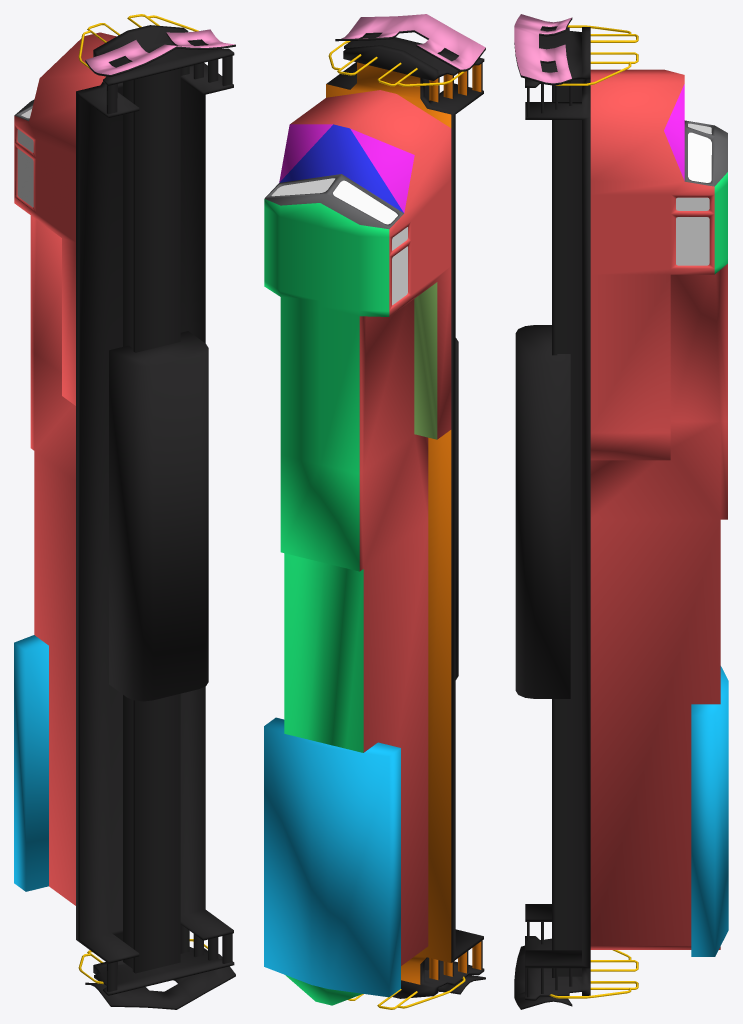
Rendered from Locomotive_01_LOD_2.fbx.
3 views of the same model, side by side, from view 1: azimuth 30°, elevation 25°; view 2: azimuth 150°, elevation 25°; view 3: azimuth 270°, elevation 25° (orthographic).
Visible parts, largest first — view 1: Locomotive_01_LOD_2; view 2: Locomotive_01_LOD_2; view 3: Locomotive_01_LOD_2.
Part boxes in pixels (x1=…): Locomotive_01_LOD_2: x1=14, y1=14, x2=235, y2=1009; Locomotive_01_LOD_2: x1=264, y1=14, x2=485, y2=1009; Locomotive_01_LOD_2: x1=514, y1=14, x2=728, y2=1009.
Size of the model in its own units: 3.18 by 23.26 by 4.67.
